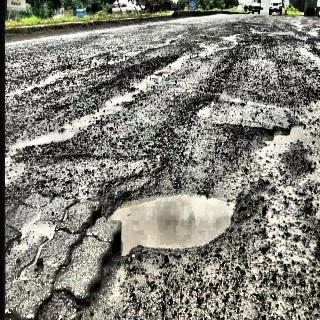pothole: (5, 46, 194, 149), (252, 100, 320, 278), (100, 177, 238, 258)
